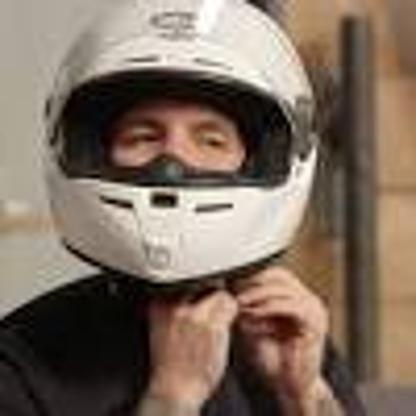not trash: (44, 0, 321, 278)
